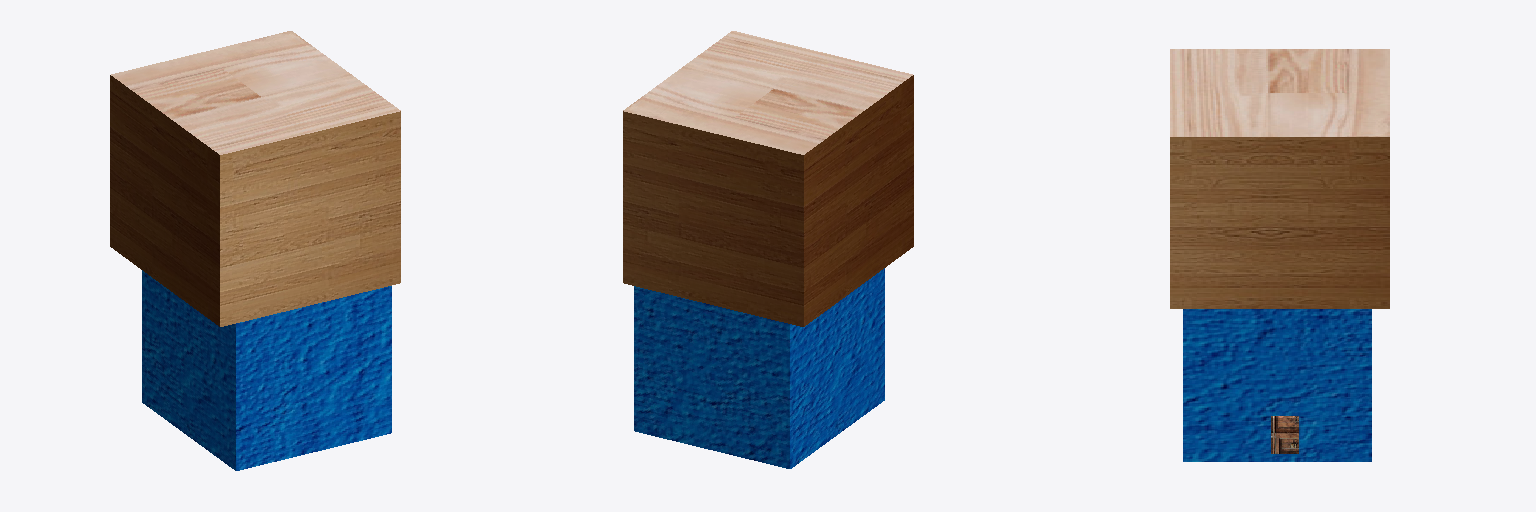
3 renders of one model, left to right at view 1: azimuth 30°, elevation 25°; view 2: azimuth 150°, elevation 25°; view 3: azimuth 270°, elevation 25°, orthographic.
Parts seen in each view (by area): view 1: Cube.002, Cube.001; view 2: Cube.002, Cube.001; view 3: Cube.002, Cube.001, Cube.
Boxes of the visible parts, <box> form: Cube.002: <box>110,31,400,326</box>; Cube.001: <box>142,270,391,470</box>; Cube.002: <box>623,31,913,326</box>; Cube.001: <box>634,268,884,468</box>; Cube.002: <box>1170,49,1389,308</box>; Cube.001: <box>1183,309,1371,461</box>; Cube: <box>1271,416,1298,453</box>.
Size of the model in its own units: 10.49 by 18.03 by 11.02.
Materials: 4 (4 with a texture image).